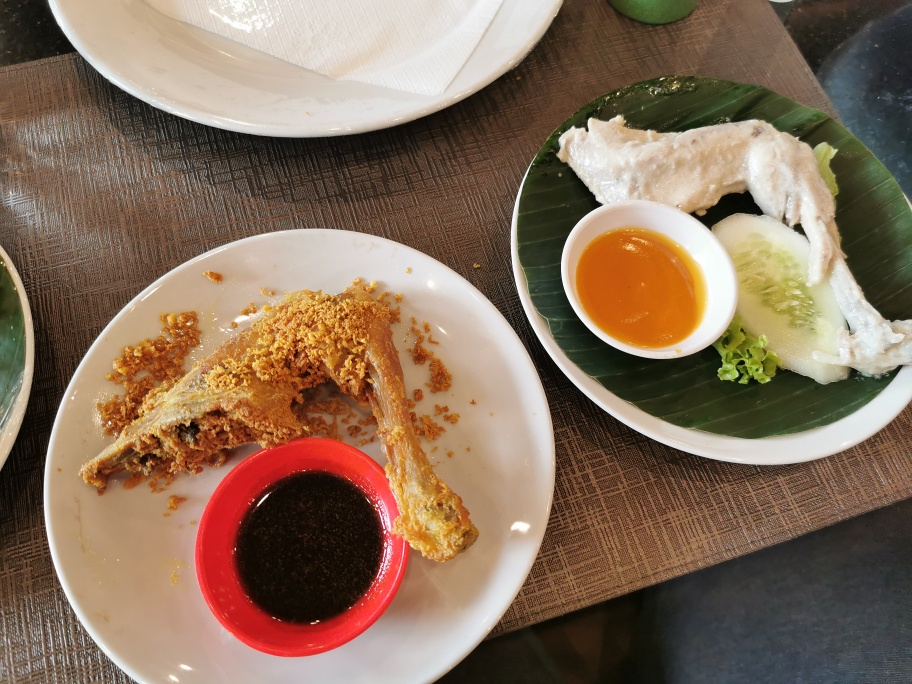ayam goreng: (72, 282, 474, 564)
ayam pop: (550, 106, 912, 372)
extra: (559, 200, 850, 384)
kecap: (184, 433, 413, 641)
